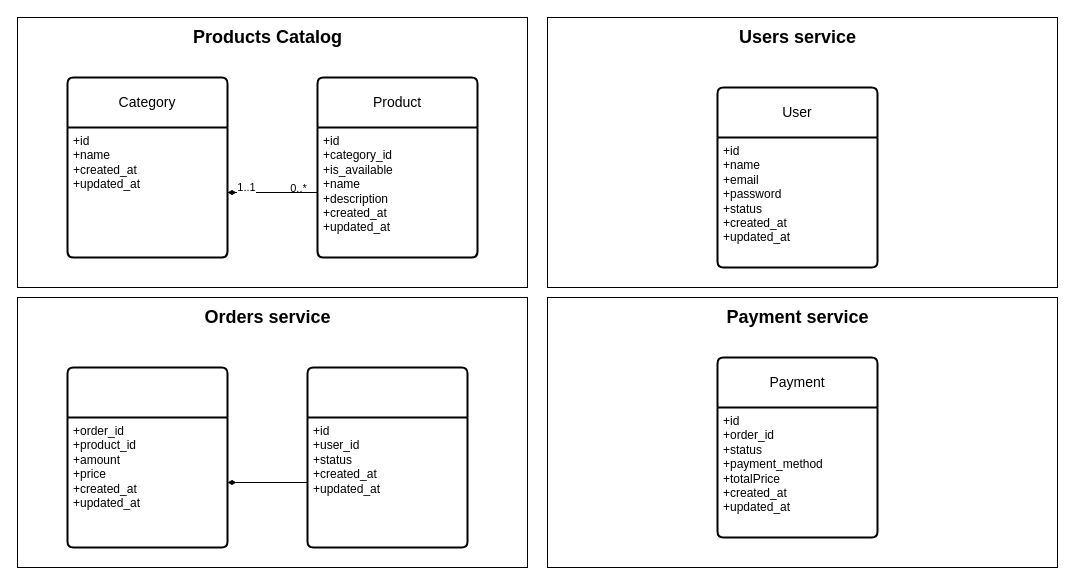
Some shapes in this 1075 by 585 pixel diagram are drawn without their labels. The box of each missing label's shape, as (x1, y1, x2, y2) in pixels:
OrderProduct: (66, 366, 228, 548)
Orders: (306, 366, 468, 548)
